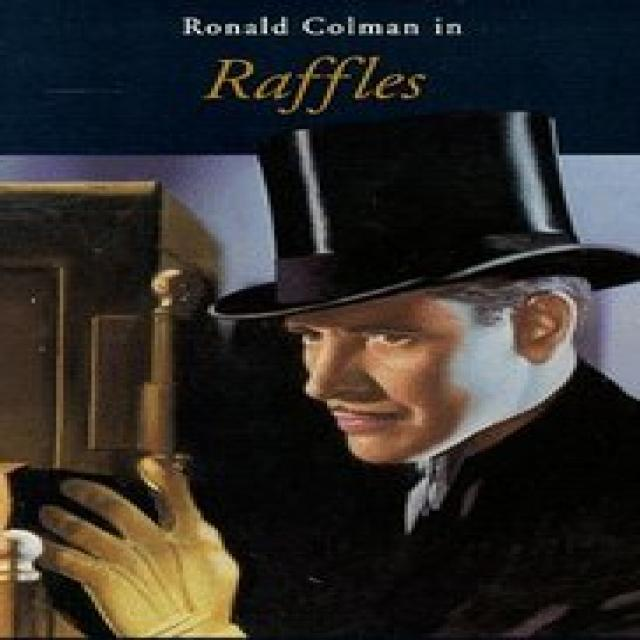movie-judul: (144, 17, 494, 118)
picture: (1, 116, 634, 640)
